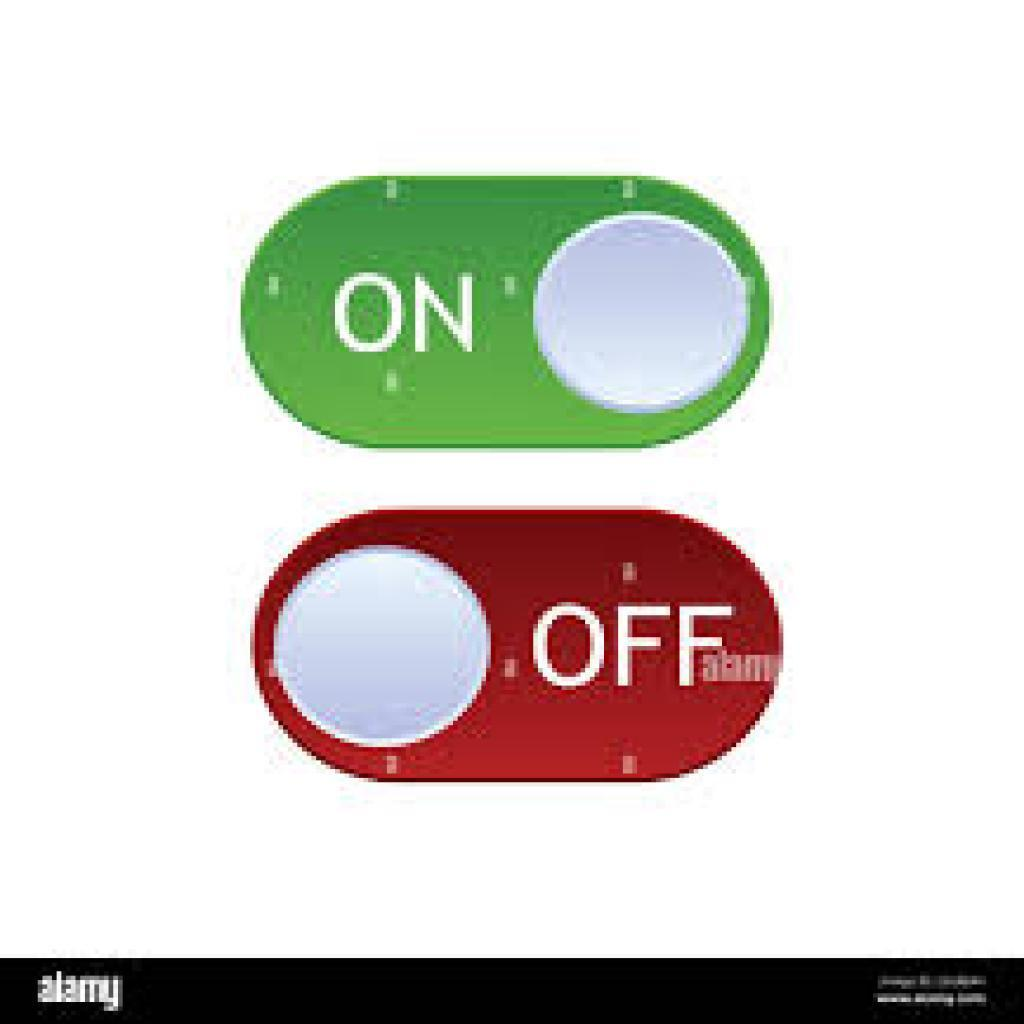switch: (252, 509, 783, 785), (242, 176, 773, 451)
